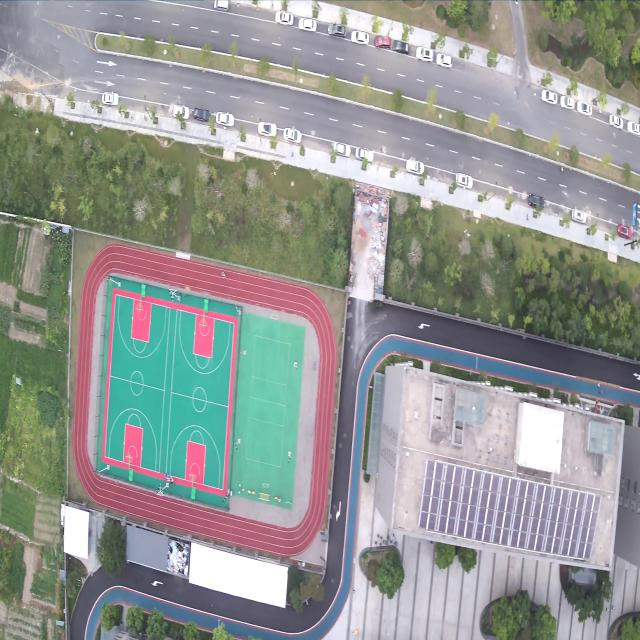UAV: (215, 190, 223, 197)
